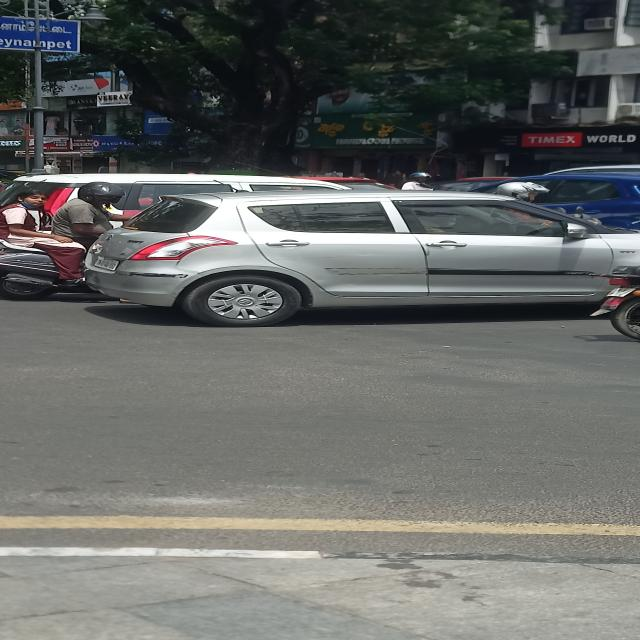scratch: (321, 266, 426, 280), (265, 254, 348, 264), (115, 272, 189, 279), (352, 253, 380, 257)
